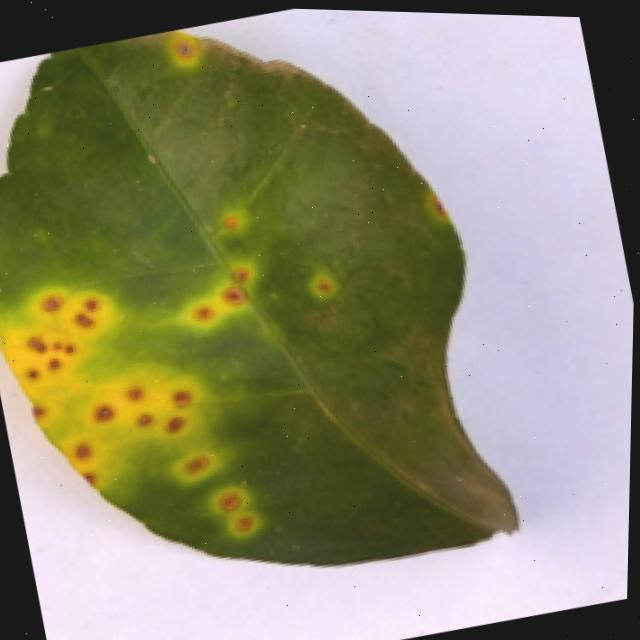canker: (0, 29, 513, 565), (0, 169, 320, 610), (149, 18, 233, 92), (284, 230, 350, 320)
